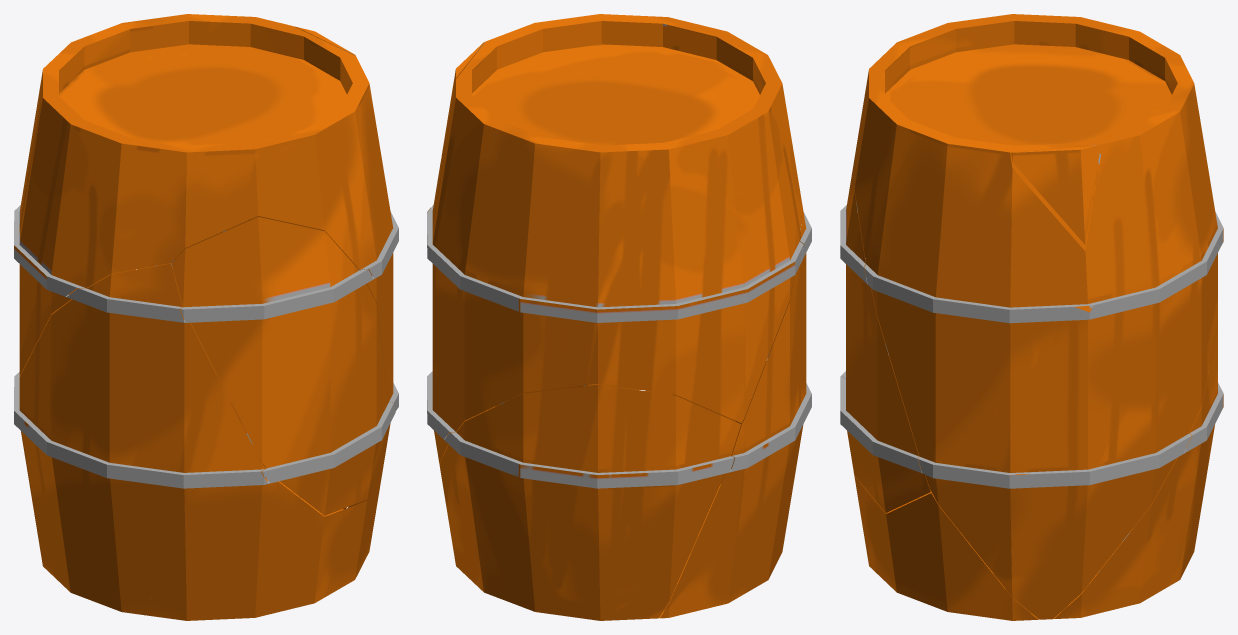
The model's file is bochka_destroy.fbx.
3 renders of one model, left to right at view 1: azimuth 30°, elevation 25°; view 2: azimuth 150°, elevation 25°; view 3: azimuth 270°, elevation 25°, orthographic.
Visible parts, largest first — view 1: Cylinder_cell_cell.002, Cylinder_cell_cell.001, Cylinder_cell_cell.004; view 2: Cylinder_cell_cell.002, Cylinder_cell_cell, Cylinder_cell_cell.001; view 3: Cylinder_cell_cell.002, Cylinder_cell_cell.004, Cylinder_cell_cell.001, Cylinder_cell_cell, Cylinder_cell_cell.003.
Part boxes in pixels (left/top/right/bottom): Cylinder_cell_cell.002: left=14, top=14, right=398, bottom=509; Cylinder_cell_cell.001: left=14, top=263, right=387, bottom=620; Cylinder_cell_cell.004: left=171, top=217, right=395, bottom=515; Cylinder_cell_cell.002: left=427, top=14, right=803, bottom=463; Cylinder_cell_cell: left=439, top=384, right=741, bottom=620; Cylinder_cell_cell.001: left=644, top=207, right=811, bottom=618; Cylinder_cell_cell.002: left=854, top=14, right=1223, bottom=619; Cylinder_cell_cell.004: left=840, top=132, right=930, bottom=512; Cylinder_cell_cell.001: left=841, top=259, right=1038, bottom=620; Cylinder_cell_cell: left=1053, top=325, right=1223, bottom=618; Cylinder_cell_cell.003: left=1011, top=144, right=1100, bottom=244.
Size of the model in its own units: 134 by 179 by 133.
Materials: 1 (1 with a texture image).
